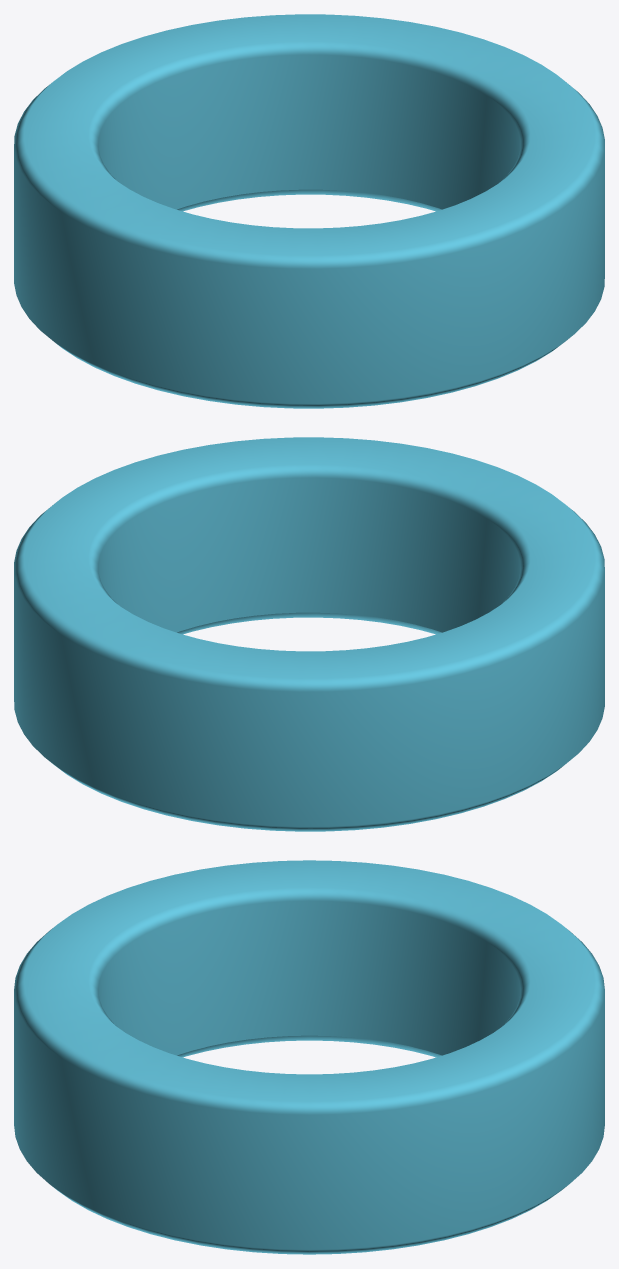
3 views of the same model, one above another, from view 1: azimuth 30°, elevation 25°; view 2: azimuth 150°, elevation 25°; view 3: azimuth 270°, elevation 25° (orthographic).
Parts seen in each view (by area): view 1: seal_body; view 2: seal_body; view 3: seal_body.
Boxes of the visible parts, x1,y1,x2,y2 form: seal_body: [14, 14, 604, 408]; seal_body: [14, 437, 604, 831]; seal_body: [14, 860, 604, 1254].
Bounding box in the file's own units: 0.0222 × 0.00635 × 0.0222.
